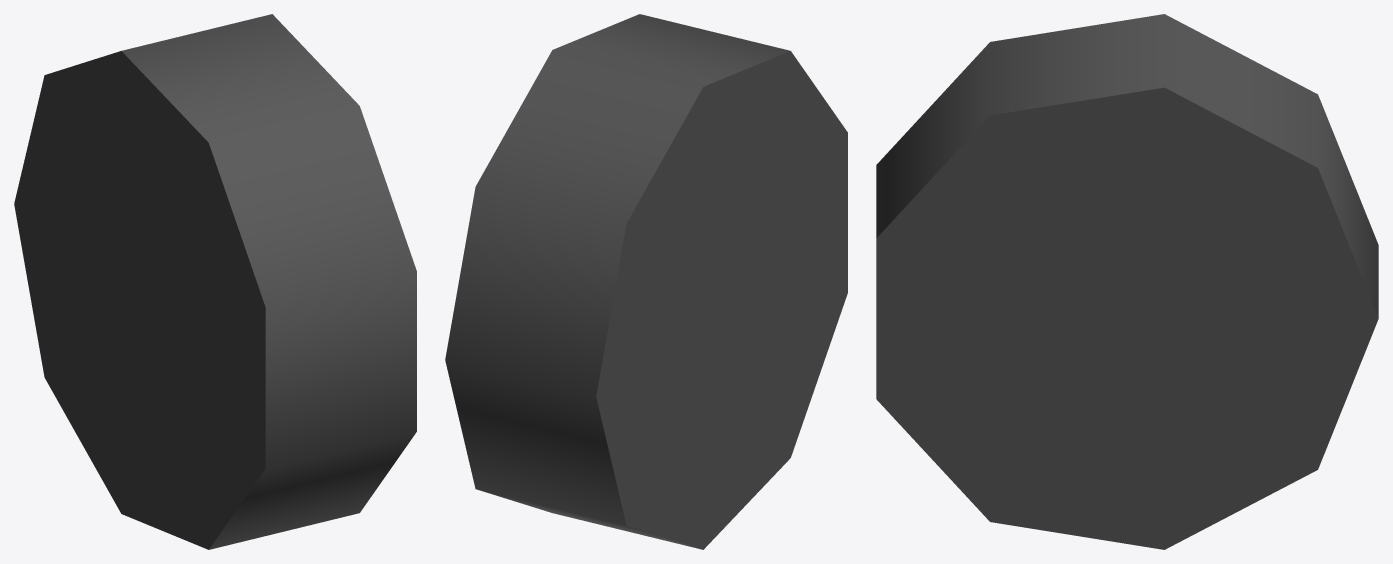
Rendered from Pipe_1_B_4.fbx.
3 renders of one model, left to right at view 1: azimuth 30°, elevation 25°; view 2: azimuth 150°, elevation 25°; view 3: azimuth 270°, elevation 25°, orthographic.
Parts seen in each view (by area): view 1: Pipe_1_B_4; view 2: Pipe_1_B_4; view 3: Pipe_1_B_4.
Boxes of the visible parts, box(x1,y1,x2,y2) form: Pipe_1_B_4: box(14, 14, 416, 549); Pipe_1_B_4: box(445, 14, 847, 549); Pipe_1_B_4: box(876, 14, 1378, 549).
Size of the model in its own units: 10.28 by 30.12 by 29.66.
